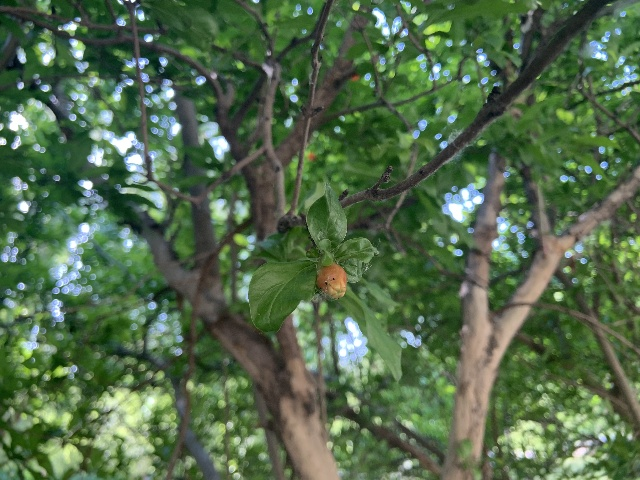bud: (316, 263, 346, 298)
